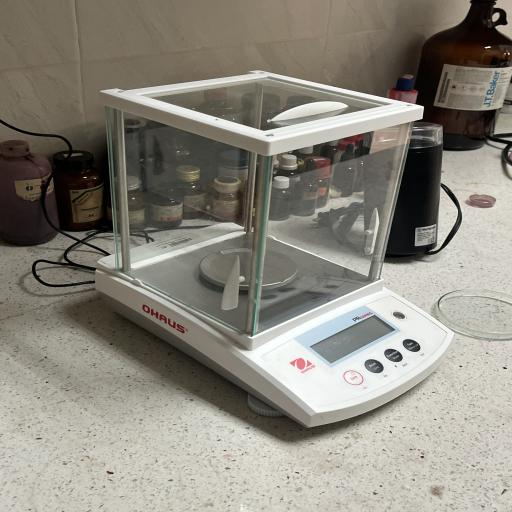Balanza_Analitica_Ohaus: (78, 62, 468, 446)
